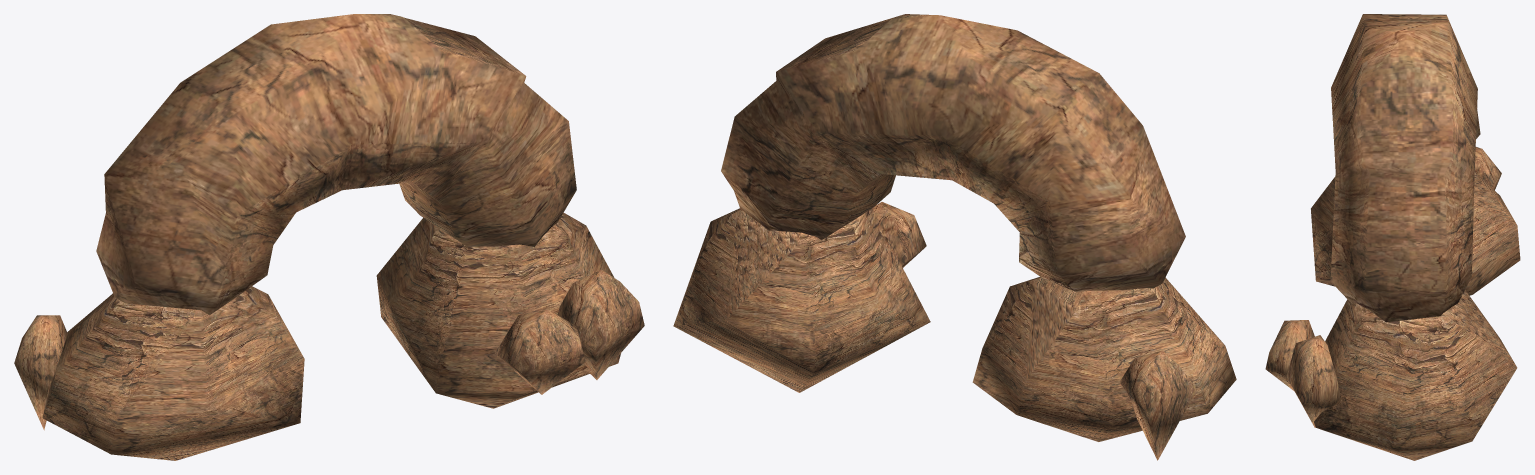
File: rock_tatt_arch_lrg_l3.fbx
The picture shows the model from 3 angles, left to right: view 1: azimuth 30°, elevation 25°; view 2: azimuth 150°, elevation 25°; view 3: azimuth 270°, elevation 25°; orthographic projection. The views are drawn at different scales.
Parts seen in each view (by area): view 1: mesh_node; view 2: mesh_node; view 3: mesh_node.
Boxes of the visible parts, x1,y1,x2,y2 form: mesh_node: (14,14,644,460); mesh_node: (673,14,1236,460); mesh_node: (1265,14,1520,460).
Size of the model in its own units: 84.22 by 60.4 by 38.07.
